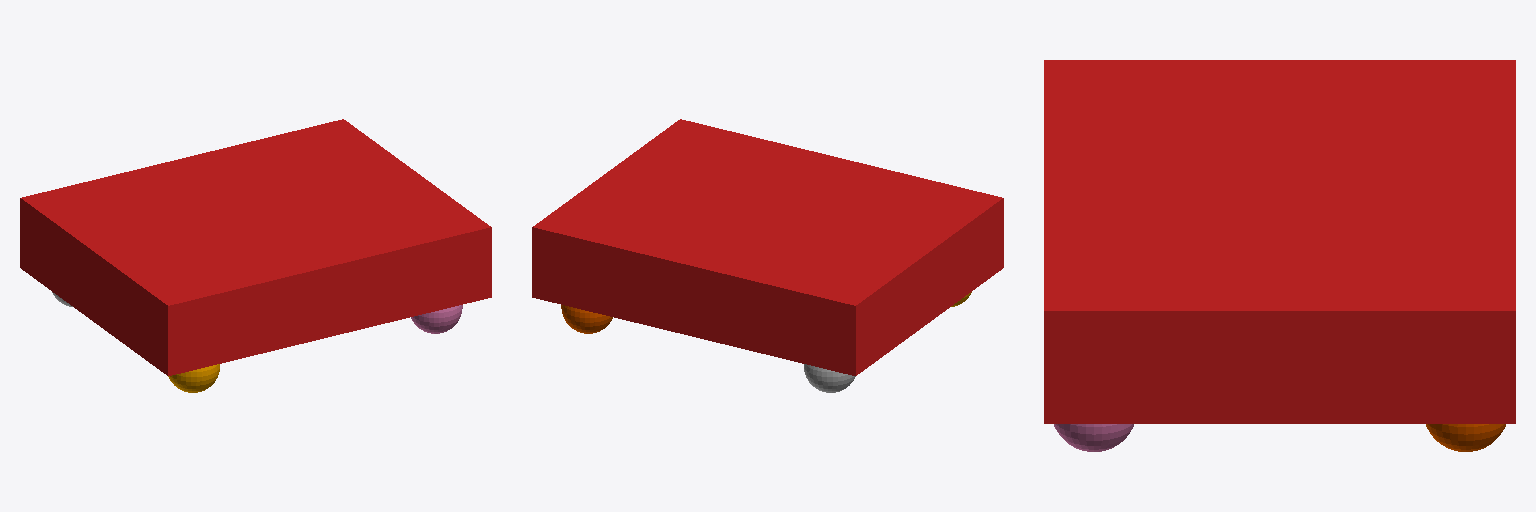
robot.urdf — low_profile_carrier:
<?xml version="1.0"?>
<!--
  RMUL 2027 low-profile carrier description for robot_state_publisher.
  It mirrors models/low_profile_robot/model.sdf exactly:
    base_footprint -> chassis (0,0,0.10), wheels, and the sensor frames
    body (IMU, at chassis origin), front_laser and navigation_laser.
  Only fixed joints exist, so robot_state_publisher publishes static TF.
-->
<robot name="low_profile_carrier">
  <link name="base_footprint"/>

  <link name="chassis">
    <visual>
      <origin xyz="0 0 0" rpy="0 0 0"/>
      <geometry>
        <box size="0.48 0.38 0.10"/>
      </geometry>
      <material name="chassis_red">
        <color rgba="0.8 0.15 0.15 1.0"/>
      </material>
    </visual>
  </link>

  <joint name="base_to_chassis" type="fixed">
    <parent link="base_footprint"/>
    <child link="chassis"/>
    <origin xyz="0 0 0.10" rpy="0 0 0"/>
  </joint>

  <!-- Sensor measurement frames. The IMU sits at the chassis origin and is
       named body, matching Point-LIO's IMU-body convention. -->
  <link name="body"/>
  <joint name="chassis_to_body" type="fixed">
    <parent link="chassis"/>
    <child link="body"/>
    <origin xyz="0 0 0" rpy="0 0 0"/>
  </joint>

  <link name="front_laser"/>
  <joint name="chassis_to_front_laser" type="fixed">
    <parent link="chassis"/>
    <child link="front_laser"/>
    <origin xyz="0.15 0 0.065" rpy="0 0 0"/>
  </joint>

  <link name="navigation_laser"/>
  <joint name="chassis_to_navigation_laser" type="fixed">
    <parent link="chassis"/>
    <child link="navigation_laser"/>
    <origin xyz="0.15 0 0.065" rpy="0 0 0"/>
  </joint>

  <link name="front_left_wheel">
    <visual>
      <origin xyz="0 0 0" rpy="0 0 0"/>
      <geometry>
        <sphere radius="0.035"/>
      </geometry>
    </visual>
  </link>
  <joint name="front_left_wheel_joint" type="fixed">
    <parent link="chassis"/>
    <child link="front_left_wheel"/>
    <origin xyz="0.18 0.15 -0.065" rpy="0 0 0"/>
  </joint>

  <link name="front_right_wheel">
    <visual>
      <origin xyz="0 0 0" rpy="0 0 0"/>
      <geometry>
        <sphere radius="0.035"/>
      </geometry>
    </visual>
  </link>
  <joint name="front_right_wheel_joint" type="fixed">
    <parent link="chassis"/>
    <child link="front_right_wheel"/>
    <origin xyz="0.18 -0.15 -0.065" rpy="0 0 0"/>
  </joint>

  <link name="rear_left_wheel">
    <visual>
      <origin xyz="0 0 0" rpy="0 0 0"/>
      <geometry>
        <sphere radius="0.035"/>
      </geometry>
    </visual>
  </link>
  <joint name="rear_left_wheel_joint" type="fixed">
    <parent link="chassis"/>
    <child link="rear_left_wheel"/>
    <origin xyz="-0.18 0.15 -0.065" rpy="0 0 0"/>
  </joint>

  <link name="rear_right_wheel">
    <visual>
      <origin xyz="0 0 0" rpy="0 0 0"/>
      <geometry>
        <sphere radius="0.035"/>
      </geometry>
    </visual>
  </link>
  <joint name="rear_right_wheel_joint" type="fixed">
    <parent link="chassis"/>
    <child link="rear_right_wheel"/>
    <origin xyz="-0.18 -0.15 -0.065" rpy="0 0 0"/>
  </joint>
</robot>

--- Facts derived from the render (not from the file) ---
3 views of the same robot in one strip: view 1: azimuth 30°, elevation 25°; view 2: azimuth 150°, elevation 25°; view 3: azimuth 270°, elevation 25° (orthographic).
Robot: low_profile_carrier — 9 links, 8 joints (8 fixed); root link base_footprint; default pose: every joint at zero.
Links seen in each view (by area): view 1: chassis, front_right_wheel, rear_right_wheel; view 2: chassis, front_left_wheel, rear_left_wheel; view 3: chassis, front_left_wheel, front_right_wheel.
Boxes of the visible links, box(x1,y1,x2,y2) form: chassis: box(20, 119, 491, 375); front_right_wheel: box(411, 305, 462, 333); rear_right_wheel: box(168, 364, 219, 392); chassis: box(532, 119, 1003, 375); front_left_wheel: box(561, 305, 612, 333); rear_left_wheel: box(804, 364, 855, 392); chassis: box(1044, 60, 1515, 423); front_left_wheel: box(1426, 424, 1505, 451); front_right_wheel: box(1054, 424, 1133, 451).
Bounding box of the posed robot: 0.48 × 0.38 × 0.15 m (x, y, z).
Geometry: primitives only (box / cylinder / sphere), no mesh files.
